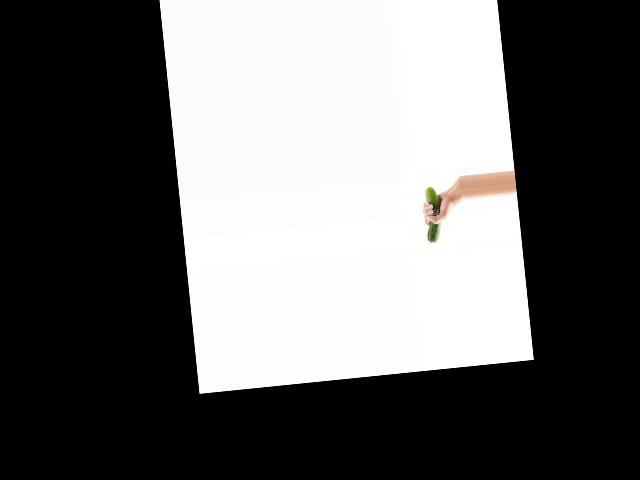cucumber: (421, 186, 443, 243)
